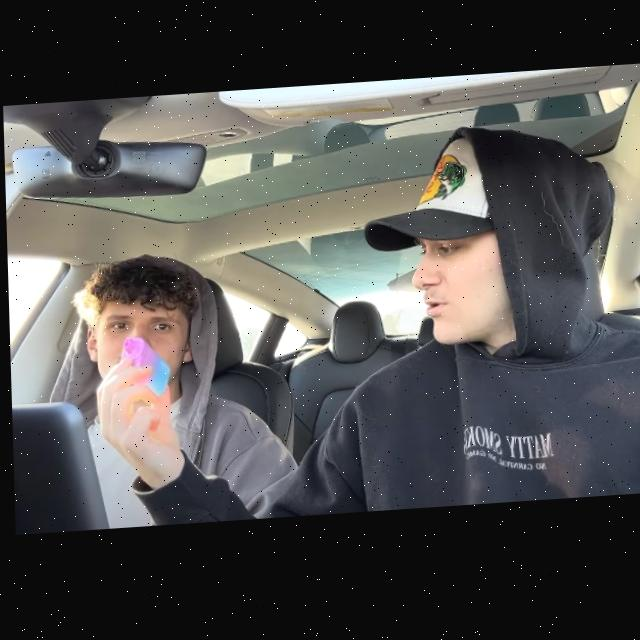vape: (119, 336, 168, 400)
